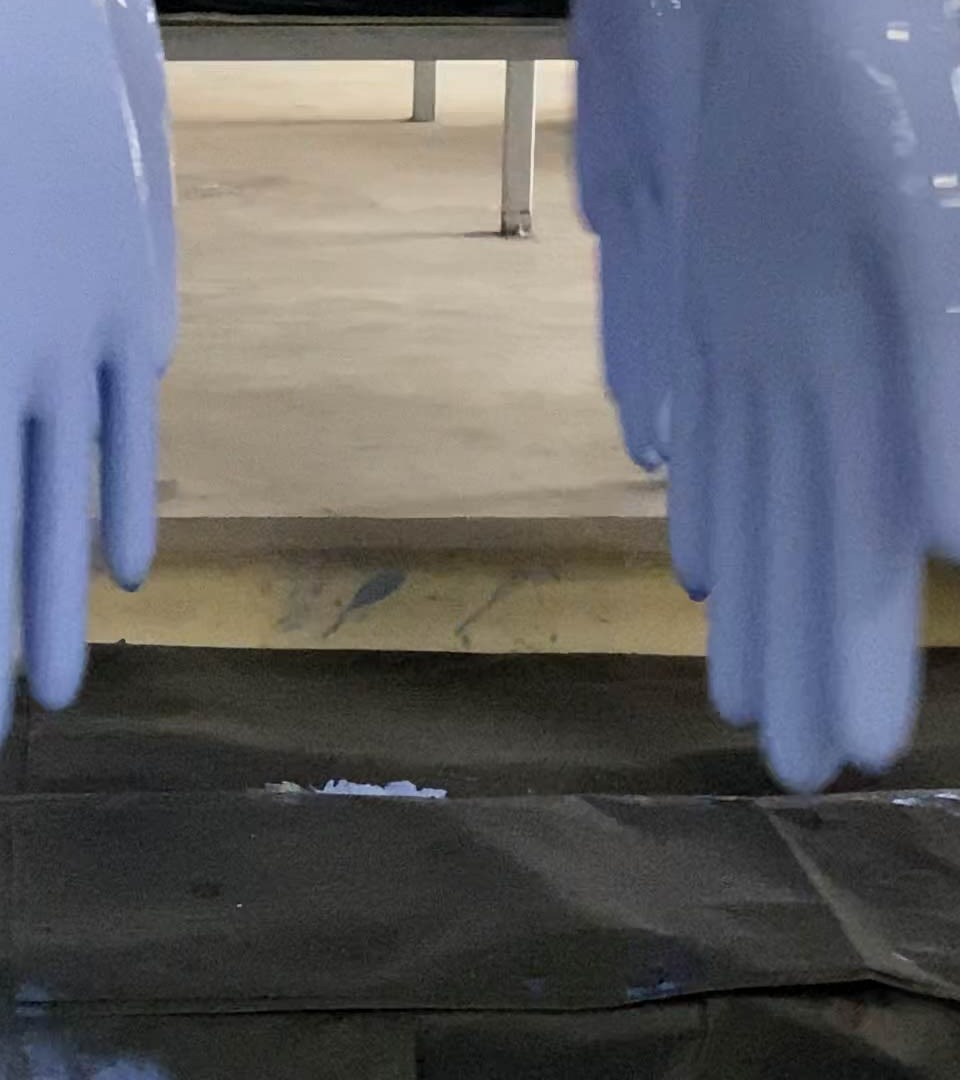glove: (655, 1, 960, 792)
